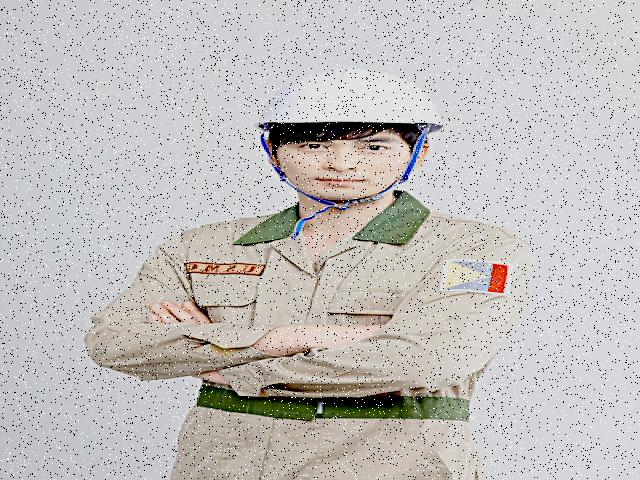Helmet: (251, 60, 455, 146)
